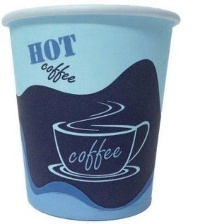paper_cup: (0, 0, 184, 224)
